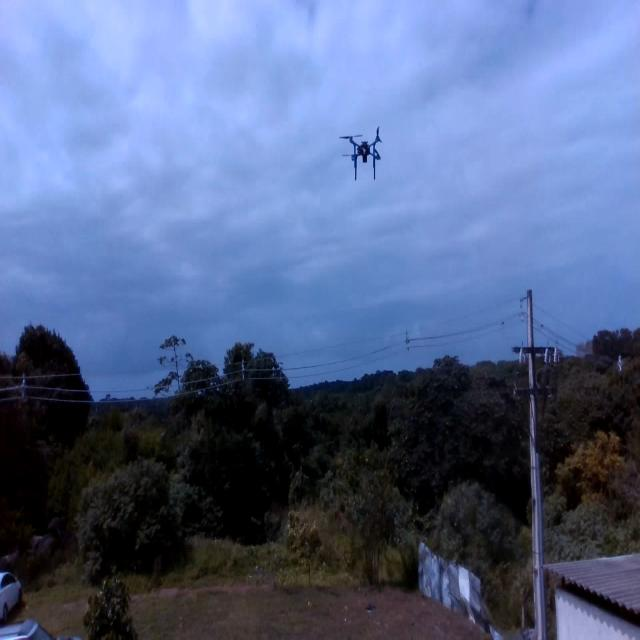-uav-: (338, 116, 390, 192)
